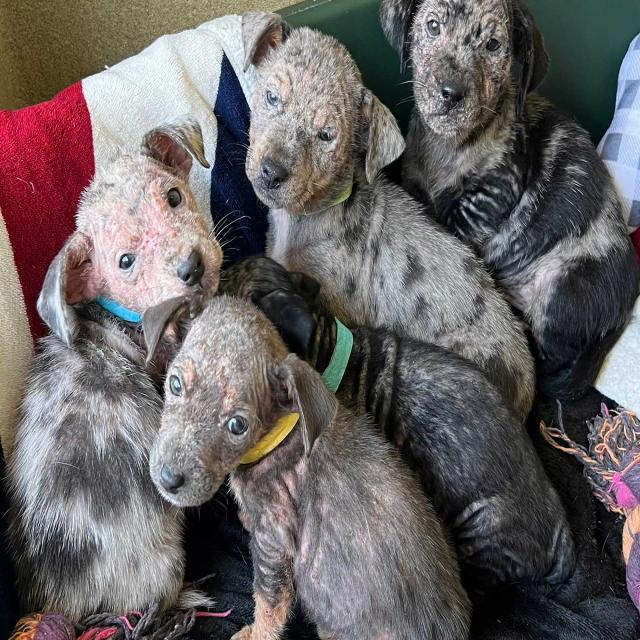mange: (152, 295, 326, 543), (70, 150, 226, 339)
